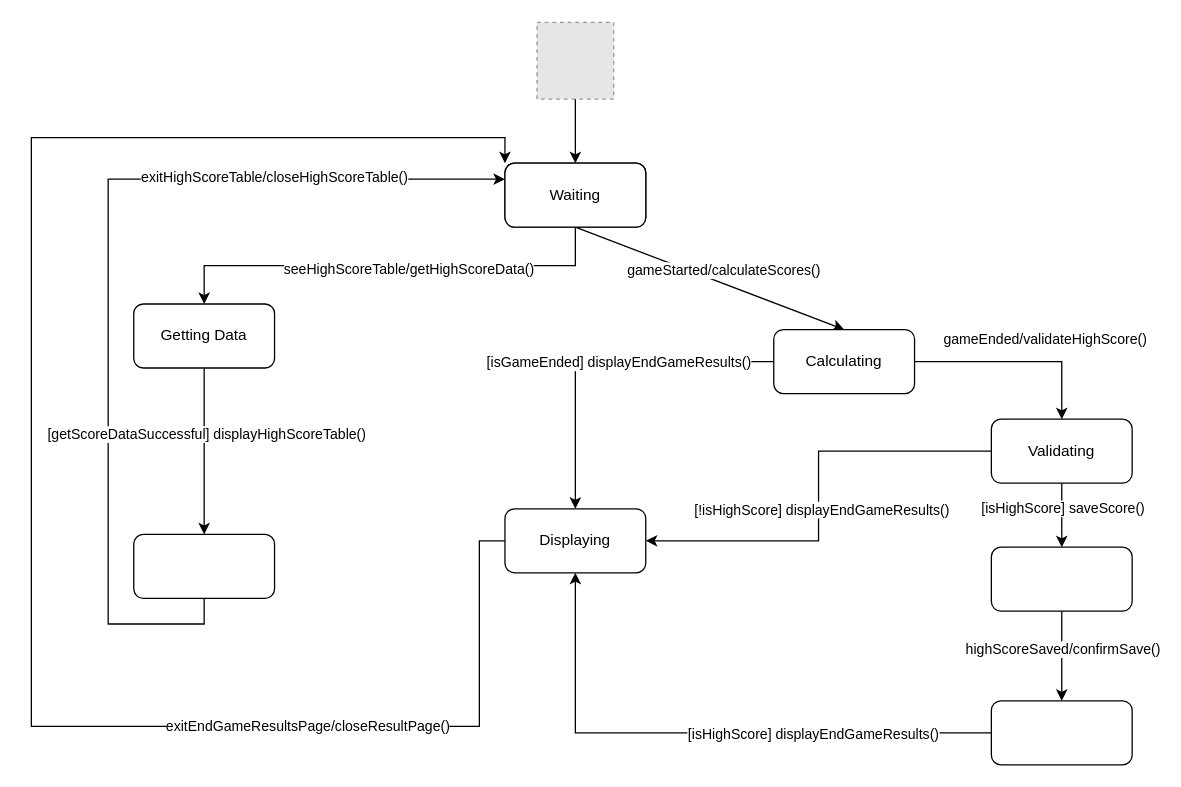
Some shapes in this 1181 by 787 pixel diagram are drawn without their labels. Grey dashed boxes stand in for pictures. Each missing label, with the centre of its shape:
"Data is Saved" belongs at pixel 1061 732.
"Displaying Table" belongs at pixel 203 565.
"Saving" belongs at pixel 1061 578.
